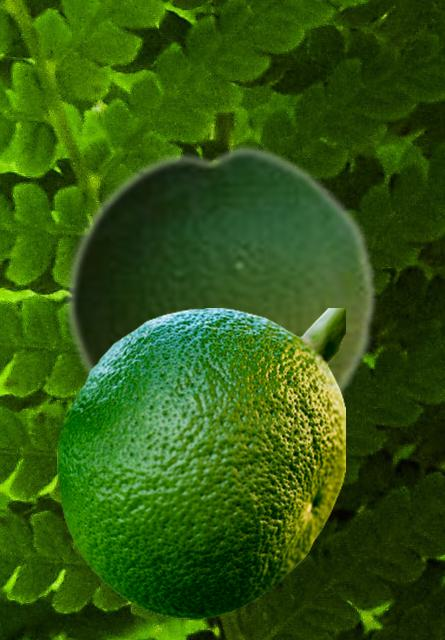dalandan: (57, 308, 344, 617), (64, 141, 377, 397)
